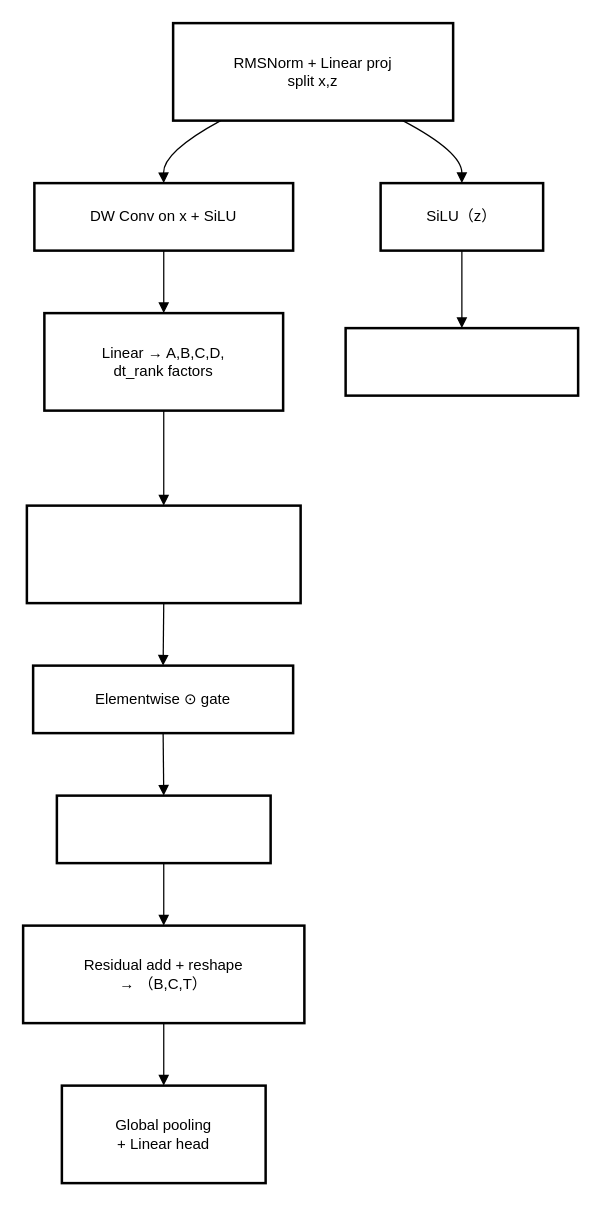
The diagram is 600 pixels wide and 1205 high, and some of its shapes have lost their labels. Here are the shapes that lost their labels. From the top down, the centre of each, then its label:
At pixel 461 361: "Sigmoid/Silu gate".
At pixel 163 554: "Parallel selective scan CUDA streaming state".
At pixel 163 829: "Linear out_proj".
